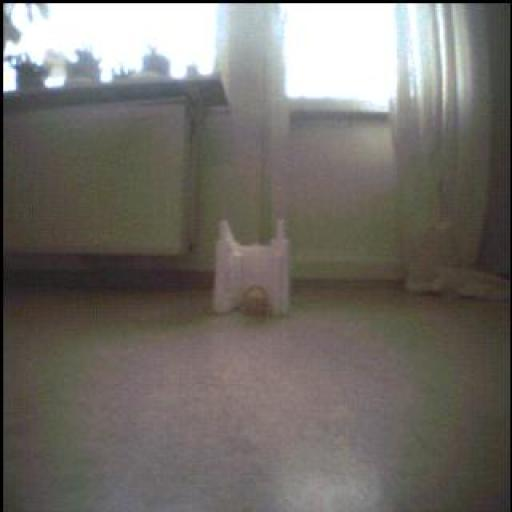Basket: (242, 280, 273, 318)
